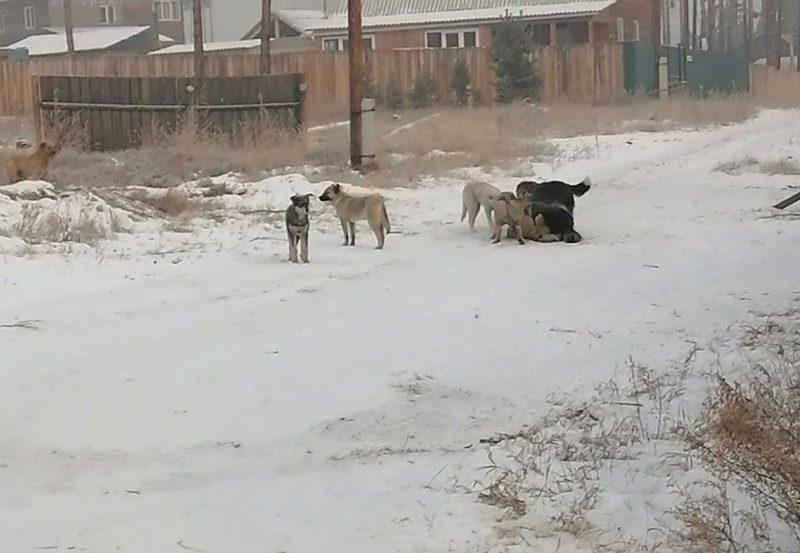normal_dogs: (320, 182, 393, 251), (460, 179, 511, 240), (1, 142, 60, 184), (285, 190, 315, 266)
